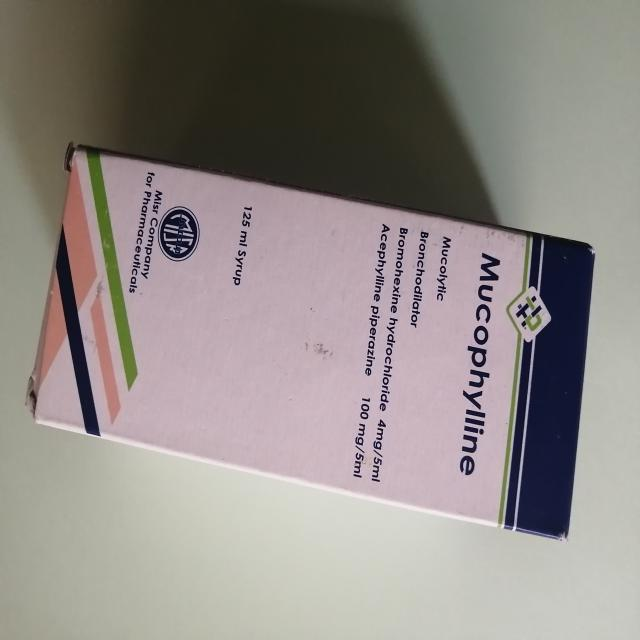Medicine: (25, 136, 599, 544)
